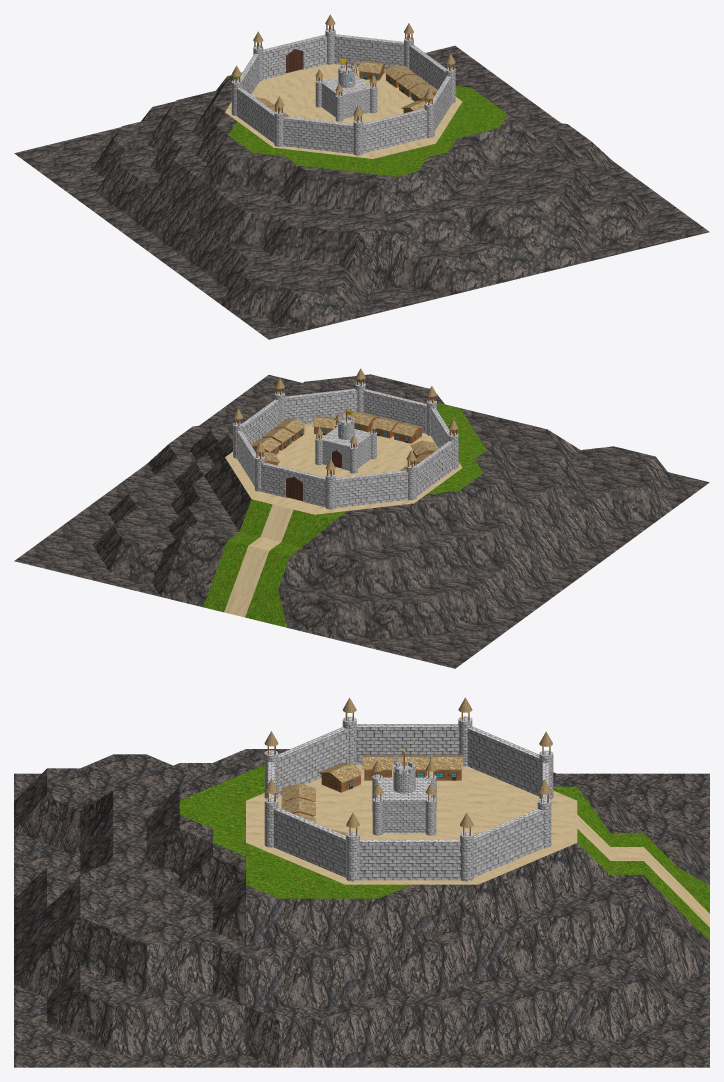
The model's file is castle.fbx.
The picture shows the model from 3 angles, top to bottom: view 1: azimuth 30°, elevation 25°; view 2: azimuth 150°, elevation 25°; view 3: azimuth 270°, elevation 25°; orthographic projection. The views are drawn at different scales.
Parts seen in each view (by area): view 1: Plane, Cube.002, Cube.001, Cube.006, Cube, Cube.005, Cube.003, Cube.007, Cube.008, Cube.004; view 2: Plane, Cube.004, Cube.008, Cube, Cube.005, Cube.001, Cube.003, Cube.007, Cube.006, Cube.002, Cube.014, Cylinder.005; view 3: Plane, Cube.007, Cube.003, Cube.008, Cube.004, Cube.006, Cube, Cube.002, Cube.019, Cylinder.008, Cylinder.007, Cube.010 (+7 smaller).
Part boxes in pixels (x1,y1,x2,y2): Plane: (14, 45, 709, 339); Cube.002: (283, 116, 353, 153); Cube.001: (363, 108, 426, 153); Cube.006: (334, 34, 403, 69); Cube: (321, 57, 370, 118); Cube.005: (263, 34, 326, 79); Cube.003: (236, 87, 274, 143); Cube.007: (409, 44, 445, 89); Cube.008: (431, 75, 452, 130); Cube.004: (238, 53, 259, 94); Plane: (14, 374, 709, 668); Cube.004: (335, 470, 407, 507); Cube.008: (284, 388, 357, 423); Cube: (322, 409, 371, 470); Cube.005: (261, 462, 325, 507); Cube.001: (363, 389, 426, 433); Cube.003: (416, 441, 454, 496); Cube.007: (243, 399, 279, 444); Cube.006: (237, 430, 256, 486); Cube.002: (431, 408, 451, 448); Cube.014: (392, 422, 423, 443); Cylinder.005: (325, 459, 335, 509); Plane: (14, 749, 709, 1067); Cube.007: (359, 839, 460, 880); Cube.003: (356, 724, 459, 764); Cube.008: (273, 807, 345, 877); Cube.004: (467, 726, 539, 796); Cube.006: (473, 809, 543, 877); Cube: (377, 749, 430, 832); Cube.002: (278, 727, 348, 795); Cube.019: (318, 763, 364, 792); Cylinder.008: (346, 812, 359, 881); Cylinder.007: (460, 812, 473, 881); Cube.010: (432, 755, 463, 780).
Size of the model in its own units: 200 by 53.5 by 200.
Materials: 9 (7 with a texture image).
